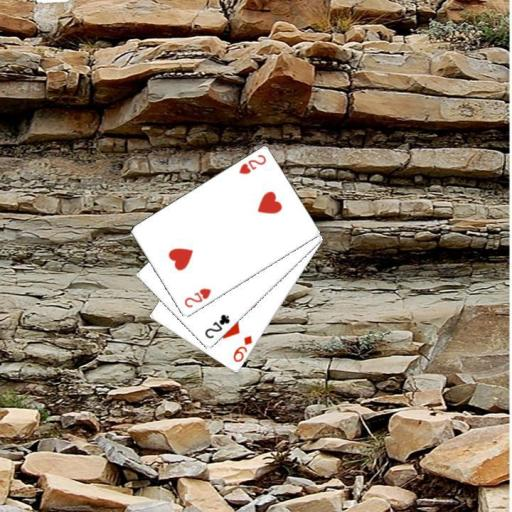2C: (201, 311, 231, 340)
2H: (236, 152, 268, 177), (181, 285, 213, 309)
9D: (230, 333, 254, 364)
